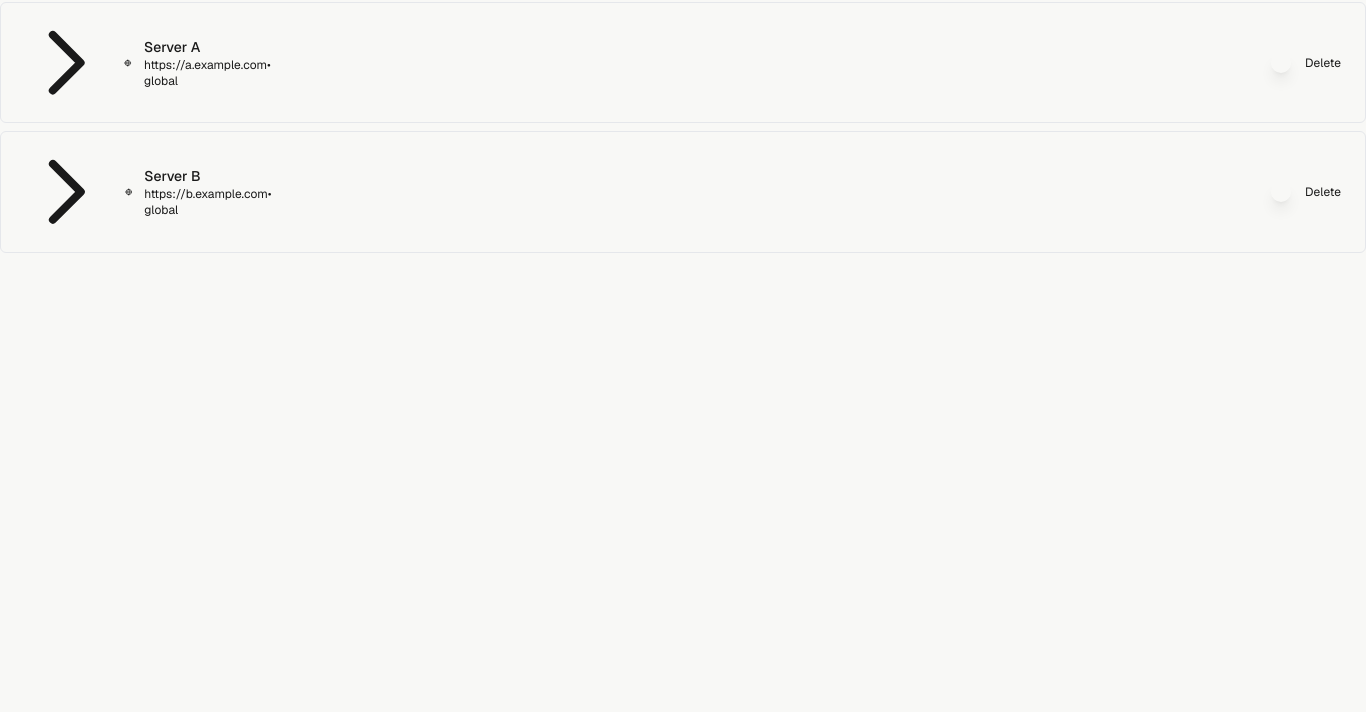
McpServersSettings › preserves remote selections across type toggles
The image size is (1366, 712).
Click the button "Server B https://b.example.com• global": {"x": 119, "y": 192} [17,144,221,240]
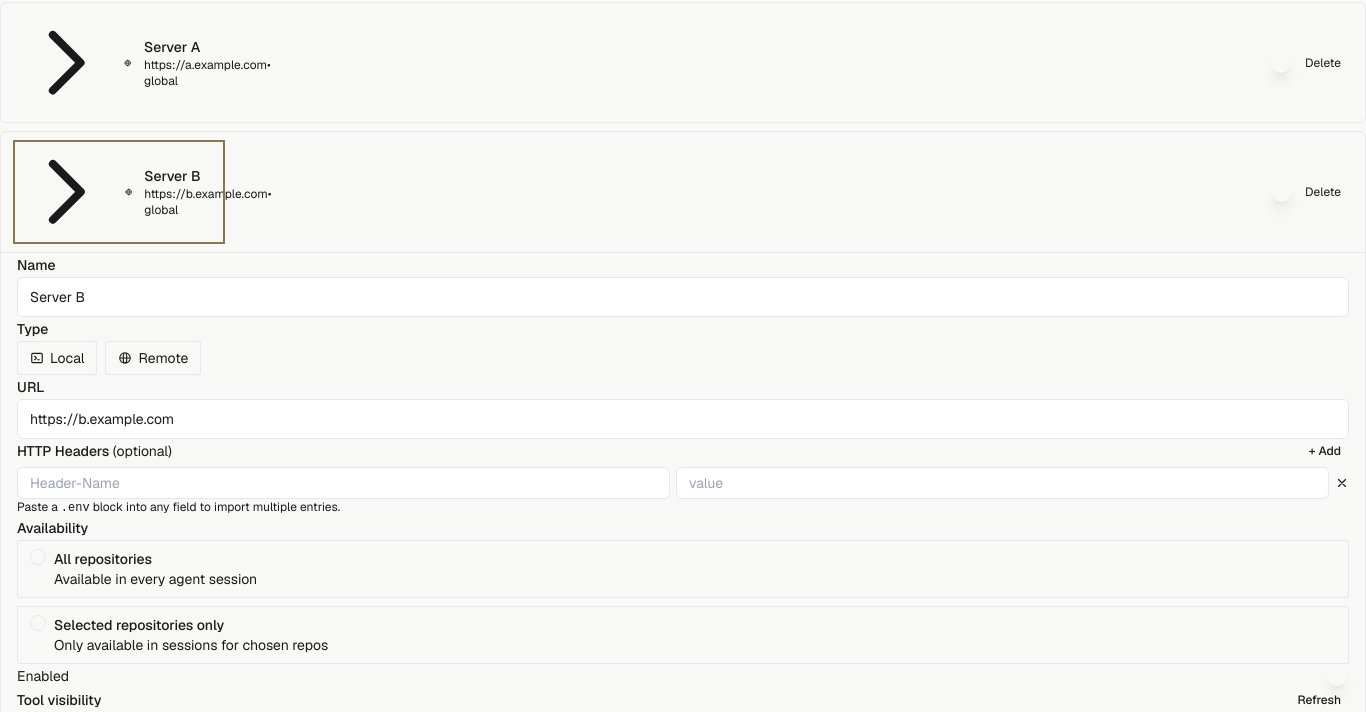
Click the button "Local": {"x": 57, "y": 358} [17,341,98,375]
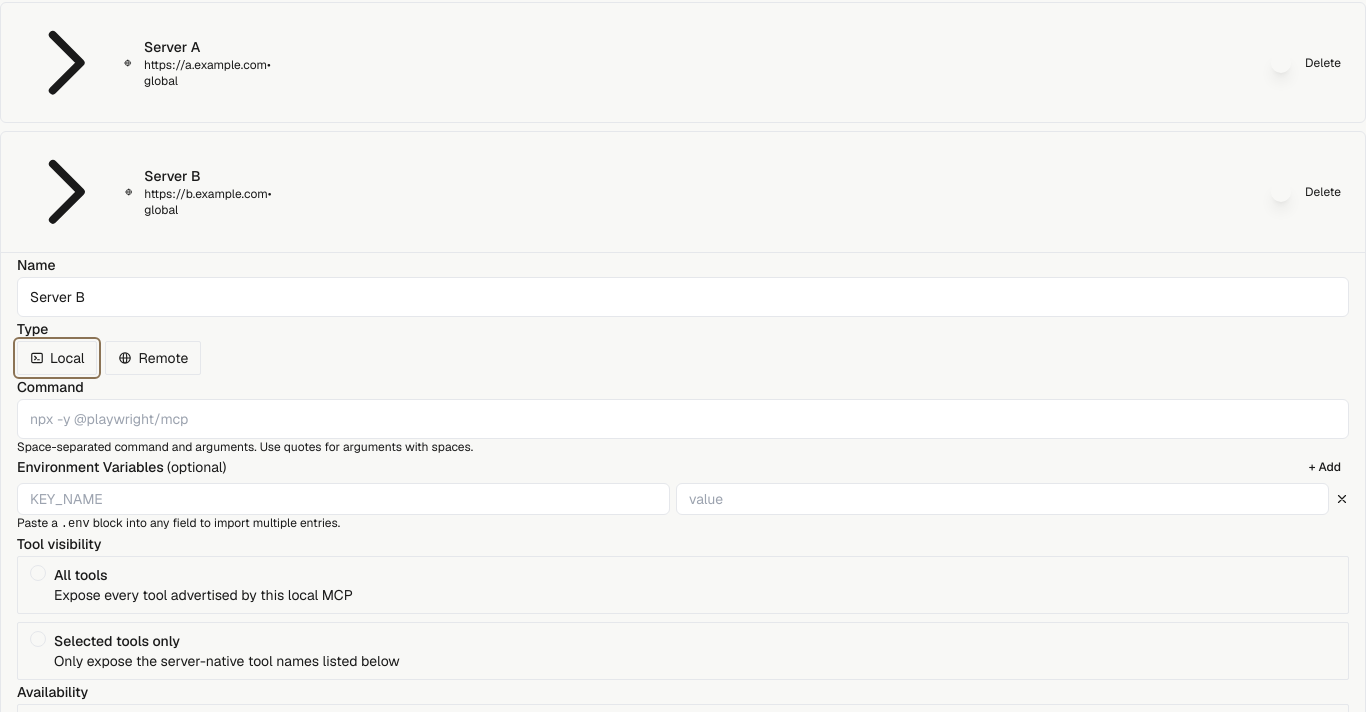
Click the button "Remote": {"x": 153, "y": 358} [106,341,201,375]
(page scrolled)
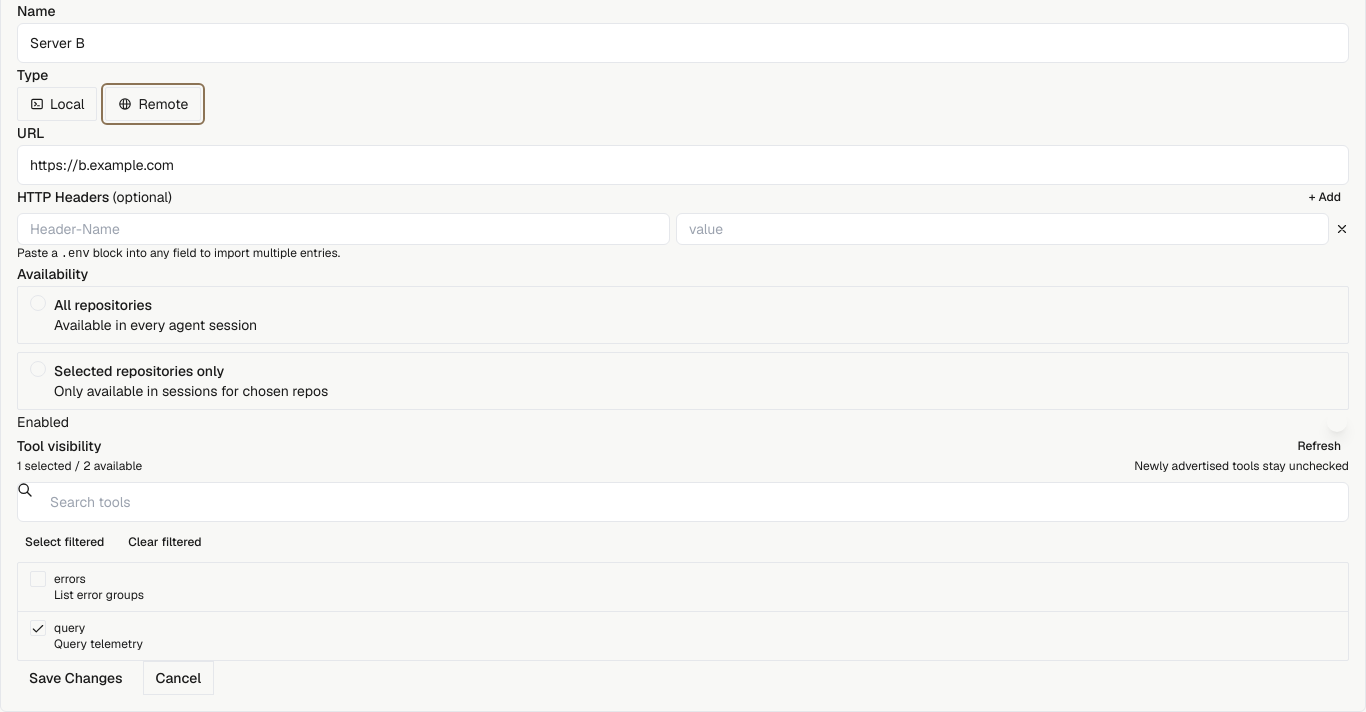
Result: the 2nd checkbox named "query" is checked at [30,620,46,636]
